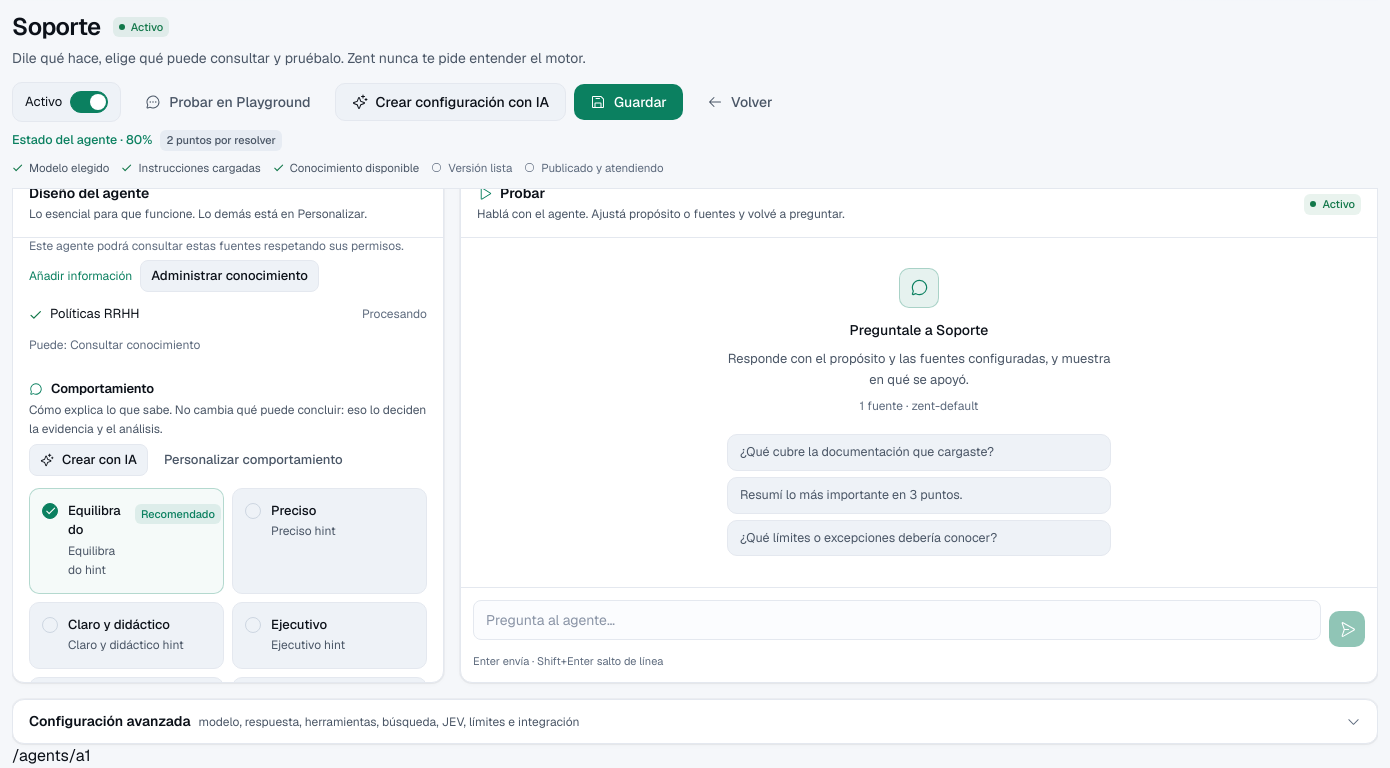
Test: AgentStudio · comportamiento › abre los controles detallados sólo al personalizar
(page scrolled)
Click the button "Personalizar comportamiento": x=253, y=460 [154, 444, 353, 476]
(page scrolled)
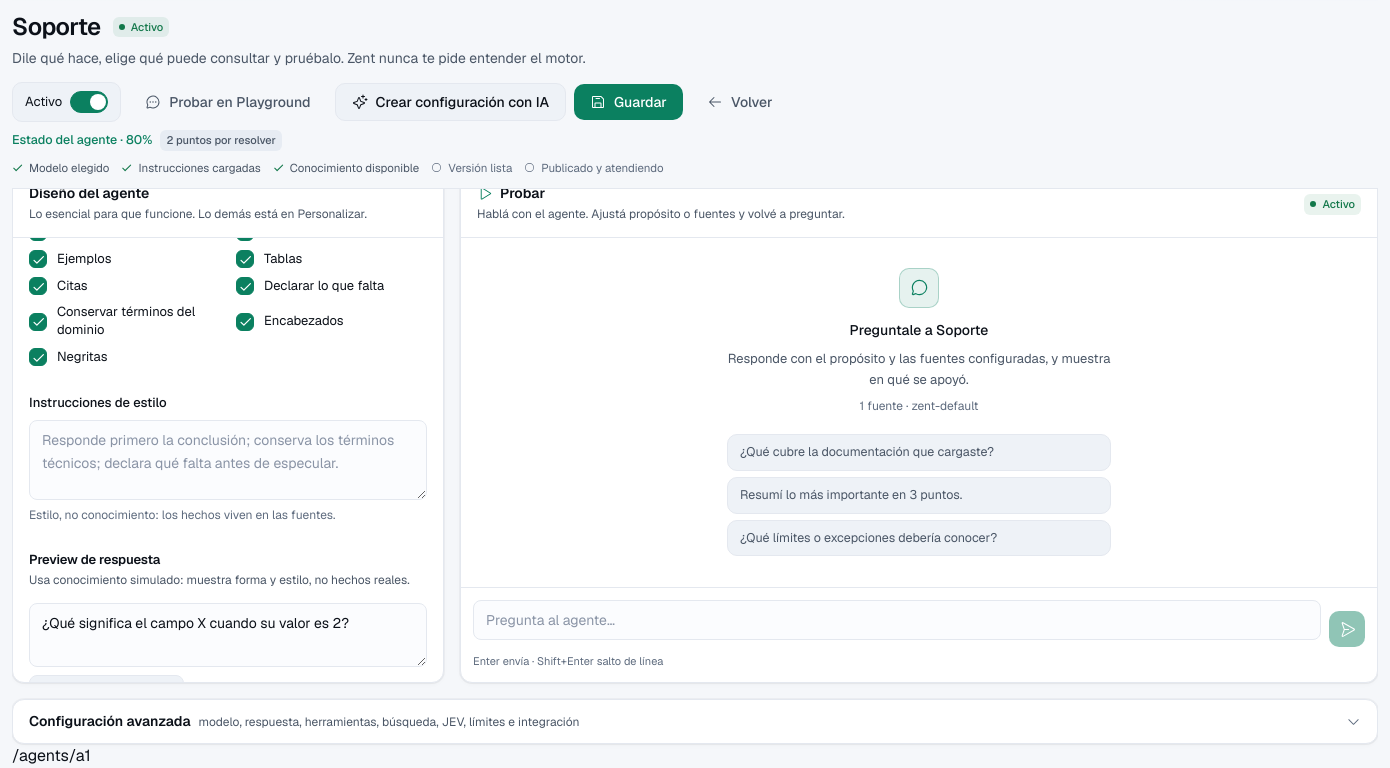
Expected: the text box labelled "Instrucciones de estilo" is shown, [29, 420, 427, 500]
